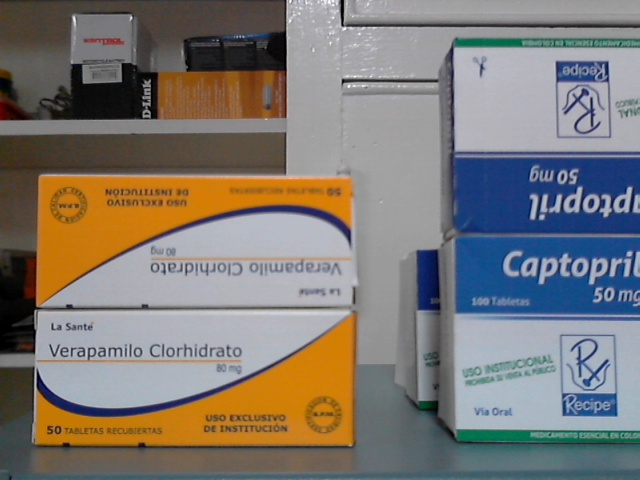LaSante: (37, 175, 356, 307), (36, 313, 352, 445)
